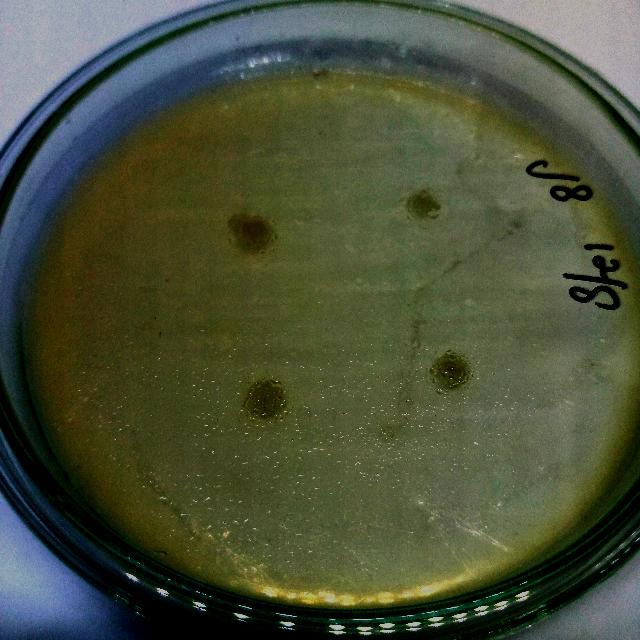colony: (222, 208, 278, 260), (240, 375, 292, 425), (428, 350, 474, 396), (402, 183, 442, 229)
